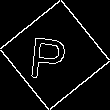P_N: (34, 28, 76, 82)
